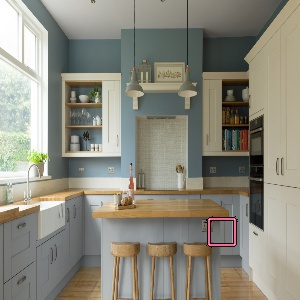square: (205, 217, 238, 247)
